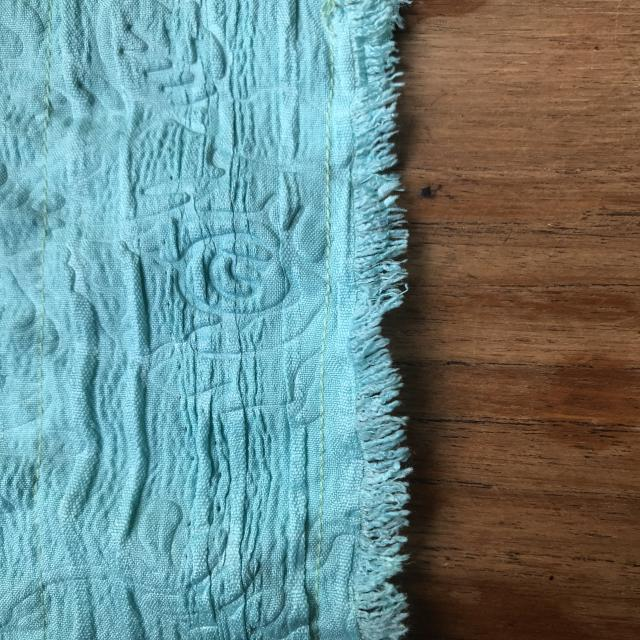good: (312, 163, 338, 274)
